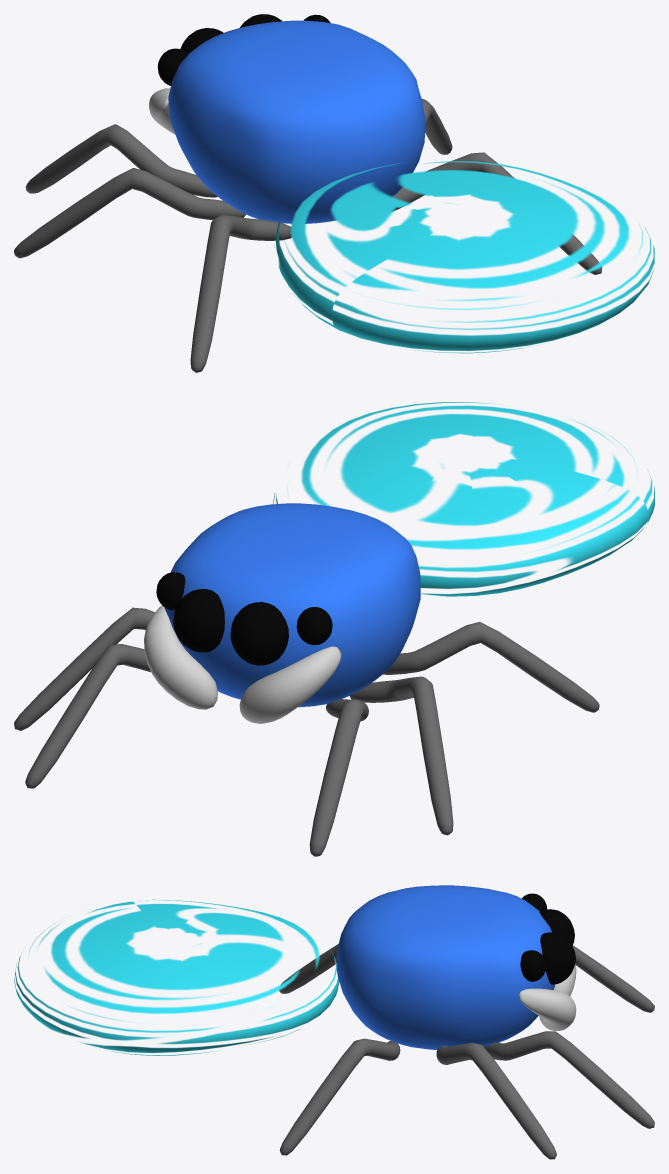
The model's file is Spider27.glb.
3 renders of one model, top to bottom at view 1: azimuth 30°, elevation 25°; view 2: azimuth 150°, elevation 25°; view 3: azimuth 270°, elevation 25°, orthographic. The views are drawn at different scales.
Visible parts, largest first — view 1: Head, Butt, Leg.003, Leg.005, Leg.001, Leg.004, Leg.002, Pincer.001, Eye.002, Eye; view 2: Head, Butt, Leg.005, Leg.003, Pincer.001, Pincer, Leg, Leg.001, Leg.002, Eye, Eye.001, Eye.002 (+1 smaller); view 3: Head, Butt, Leg, Leg.004, Leg.002, Pincer, Leg.001, Eye.001, Leg.005, Eye.003, Eye.
Part boxes in pixels (x1=…): Head: x1=168, y1=20, x2=424, y2=223; Butt: x1=274, y1=161, x2=654, y2=353; Leg.003: x1=14, y1=168, x2=245, y2=258; Leg.005: x1=190, y1=215, x2=291, y2=372; Leg.001: x1=25, y1=124, x2=217, y2=197; Leg.004: x1=392, y1=152, x2=602, y2=274; Leg.002: x1=422, y1=98, x2=452, y2=154; Pincer.001: x1=149, y1=88, x2=175, y2=134; Eye.002: x1=157, y1=48, x2=188, y2=85; Eye: x1=180, y1=28, x2=223, y2=53; Head: x1=164, y1=503, x2=420, y2=707; Butt: x1=273, y1=402, x2=654, y2=596; Leg.005: x1=383, y1=622, x2=599, y2=712; Leg.003: x1=349, y1=676, x2=453, y2=835; Pincer.001: x1=239, y1=646, x2=341, y2=723; Pincer: x1=144, y1=605, x2=217, y2=709; Leg: x1=25, y1=644, x2=150, y2=788; Leg.001: x1=309, y1=699, x2=368, y2=856; Leg.002: x1=14, y1=607, x2=154, y2=730; Eye: x1=230, y1=602, x2=288, y2=665; Eye.001: x1=173, y1=589, x2=224, y2=652; Eye.002: x1=296, y1=607, x2=332, y2=645; Head: x1=336, y1=885, x2=555, y2=1049; Butt: x1=14, y1=899, x2=339, y2=1055; Leg: x1=484, y1=1031, x2=654, y2=1128; Leg.004: x1=279, y1=1038, x2=400, y2=1155; Leg.002: x1=436, y1=1042, x2=556, y2=1159; Pincer: x1=518, y1=988, x2=576, y2=1030; Leg.001: x1=572, y1=945, x2=654, y2=1012; Eye.001: x1=540, y1=932, x2=575, y2=984; Leg.005: x1=279, y1=944, x2=338, y2=993; Eye.003: x1=520, y1=950, x2=546, y2=981; Eye: x1=539, y1=909, x2=574, y2=945.
Size of the model in its own units: 0.3311 by 0.1445 by 0.5081.
Materials: 5 (1 with a texture image).
